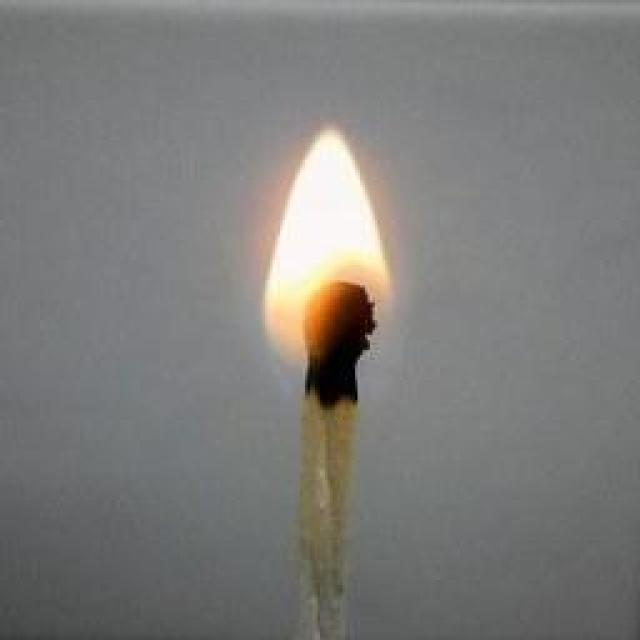fire: (261, 126, 394, 369)
